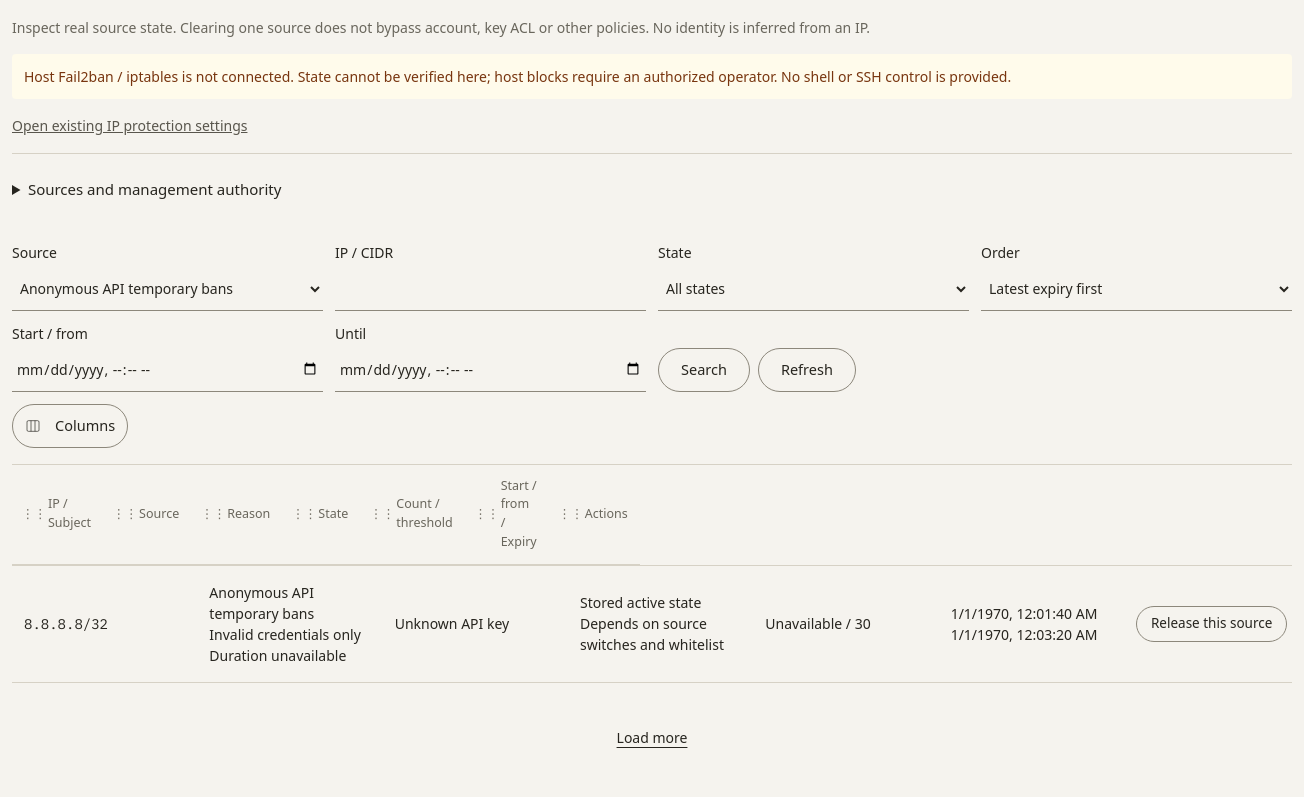
Test: IP audit › reports failed release and re-reads state without claiming success
The width and height of the screenshot is (1304, 797).
Click the button with test id "release-source": coordinates (1212, 624) [1136,606,1287,642]
(page scrolled)
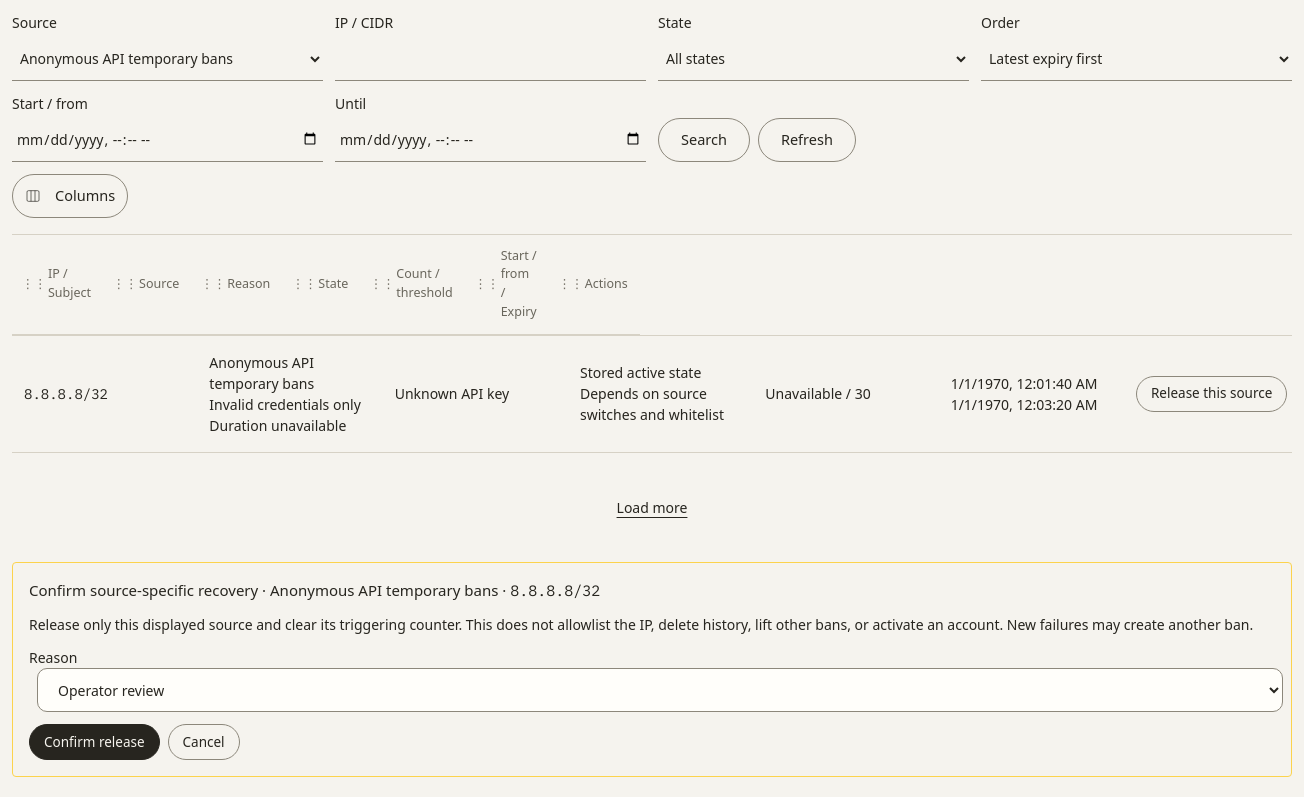
Click the button with test id "release-confirm": coordinates (94, 742) [29,724,160,760]
(page scrolled)
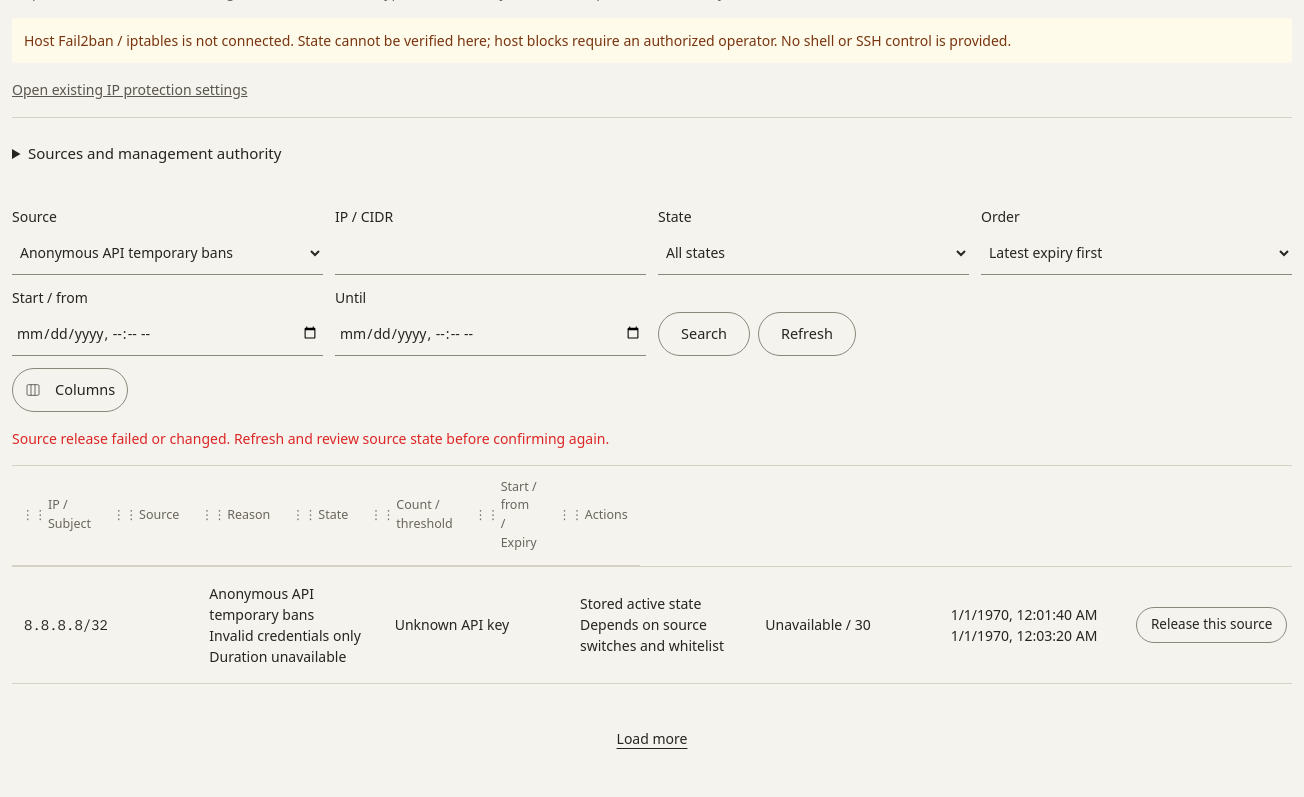
Now the message shows "Source release failed or changed. Refresh and review source state before confirming again.", box [12,428,609,448]
